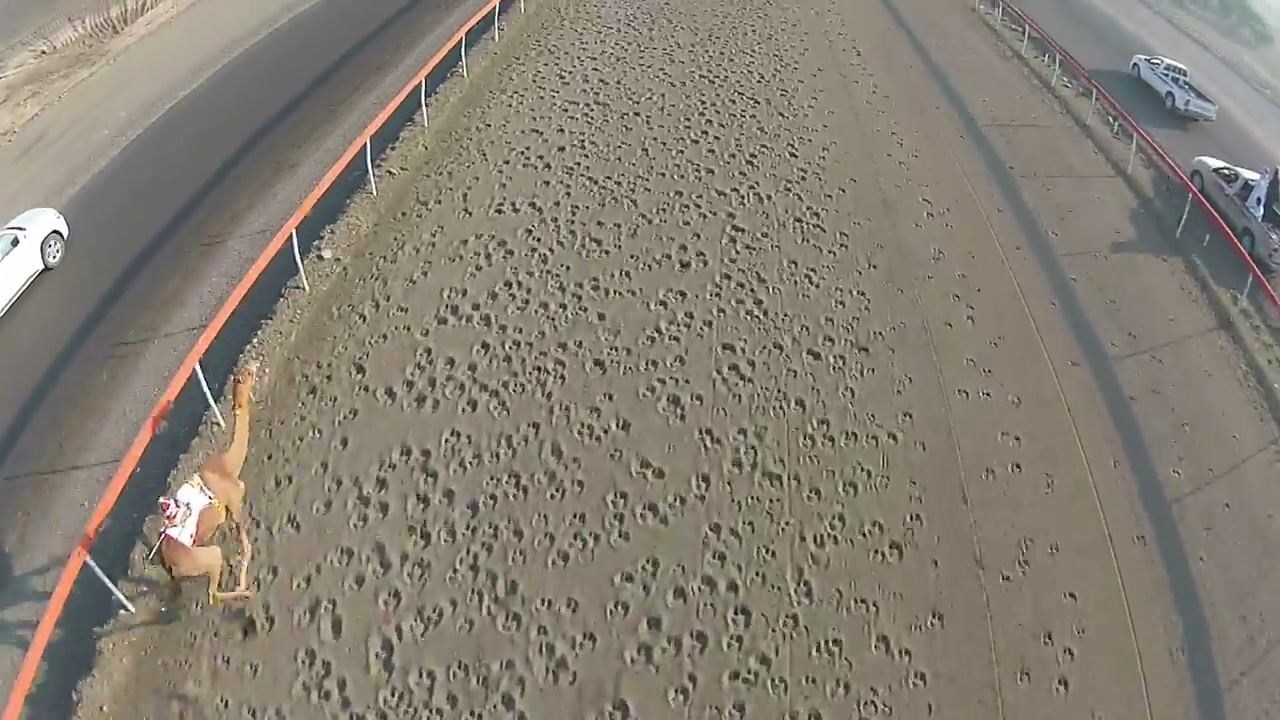animal_footprint: (200, 0, 922, 717), (817, 38, 1104, 693)
